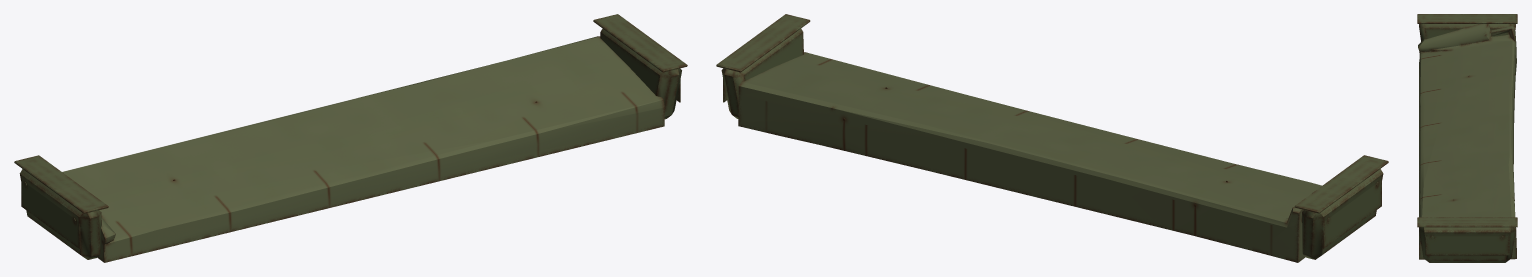
Rendered from fixture.glb.
3 views of the same model, side by side, from view 1: azimuth 30°, elevation 25°; view 2: azimuth 150°, elevation 25°; view 3: azimuth 270°, elevation 25° (orthographic). The views are drawn at different scales.
Parts seen in each view (by area): view 1: Seed720_CleanedGeneratedBeam, RaisedRails_Rivets_GravityFasteners; view 2: Seed720_CleanedGeneratedBeam, RaisedRails_Rivets_GravityFasteners; view 3: Seed720_CleanedGeneratedBeam, RaisedRails_Rivets_GravityFasteners.
Part boxes in pixels (x1,y1,x2,y2): Seed720_CleanedGeneratedBeam: (62,36,664,262); RaisedRails_Rivets_GravityFasteners: (14,14,687,259); Seed720_CleanedGeneratedBeam: (738,52,1321,262); RaisedRails_Rivets_GravityFasteners: (716,14,1388,259); Seed720_CleanedGeneratedBeam: (1418,24,1516,259); RaisedRails_Rivets_GravityFasteners: (1417,14,1517,262).
Bounding box in the file's own units: 1.1 × 0.1 × 0.22.
Materials: 4 (3 with a texture image).
